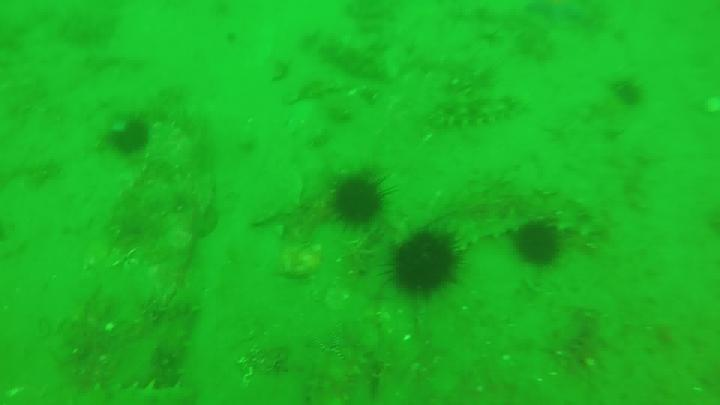echinus: (387, 231, 454, 296), (335, 181, 387, 226), (515, 222, 565, 265), (108, 112, 149, 153), (614, 82, 645, 106)
holothurian: (3, 380, 192, 405), (312, 32, 393, 88), (429, 92, 519, 127)
